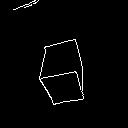cube: (28, 28, 96, 108)
